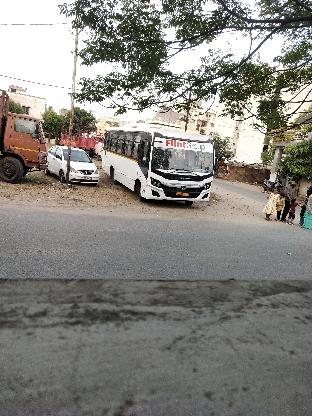bus: (103, 122, 215, 206)
